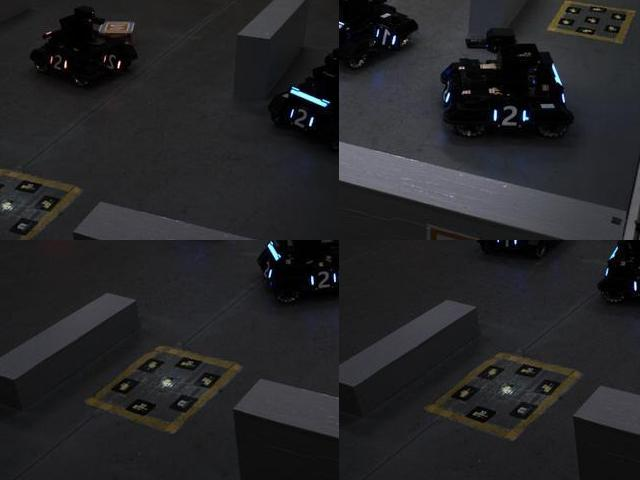armor: (487, 101, 534, 129), (286, 104, 320, 134), (307, 264, 338, 294), (370, 24, 402, 52), (46, 47, 72, 78), (98, 50, 128, 74), (491, 240, 521, 250), (629, 273, 639, 301)
